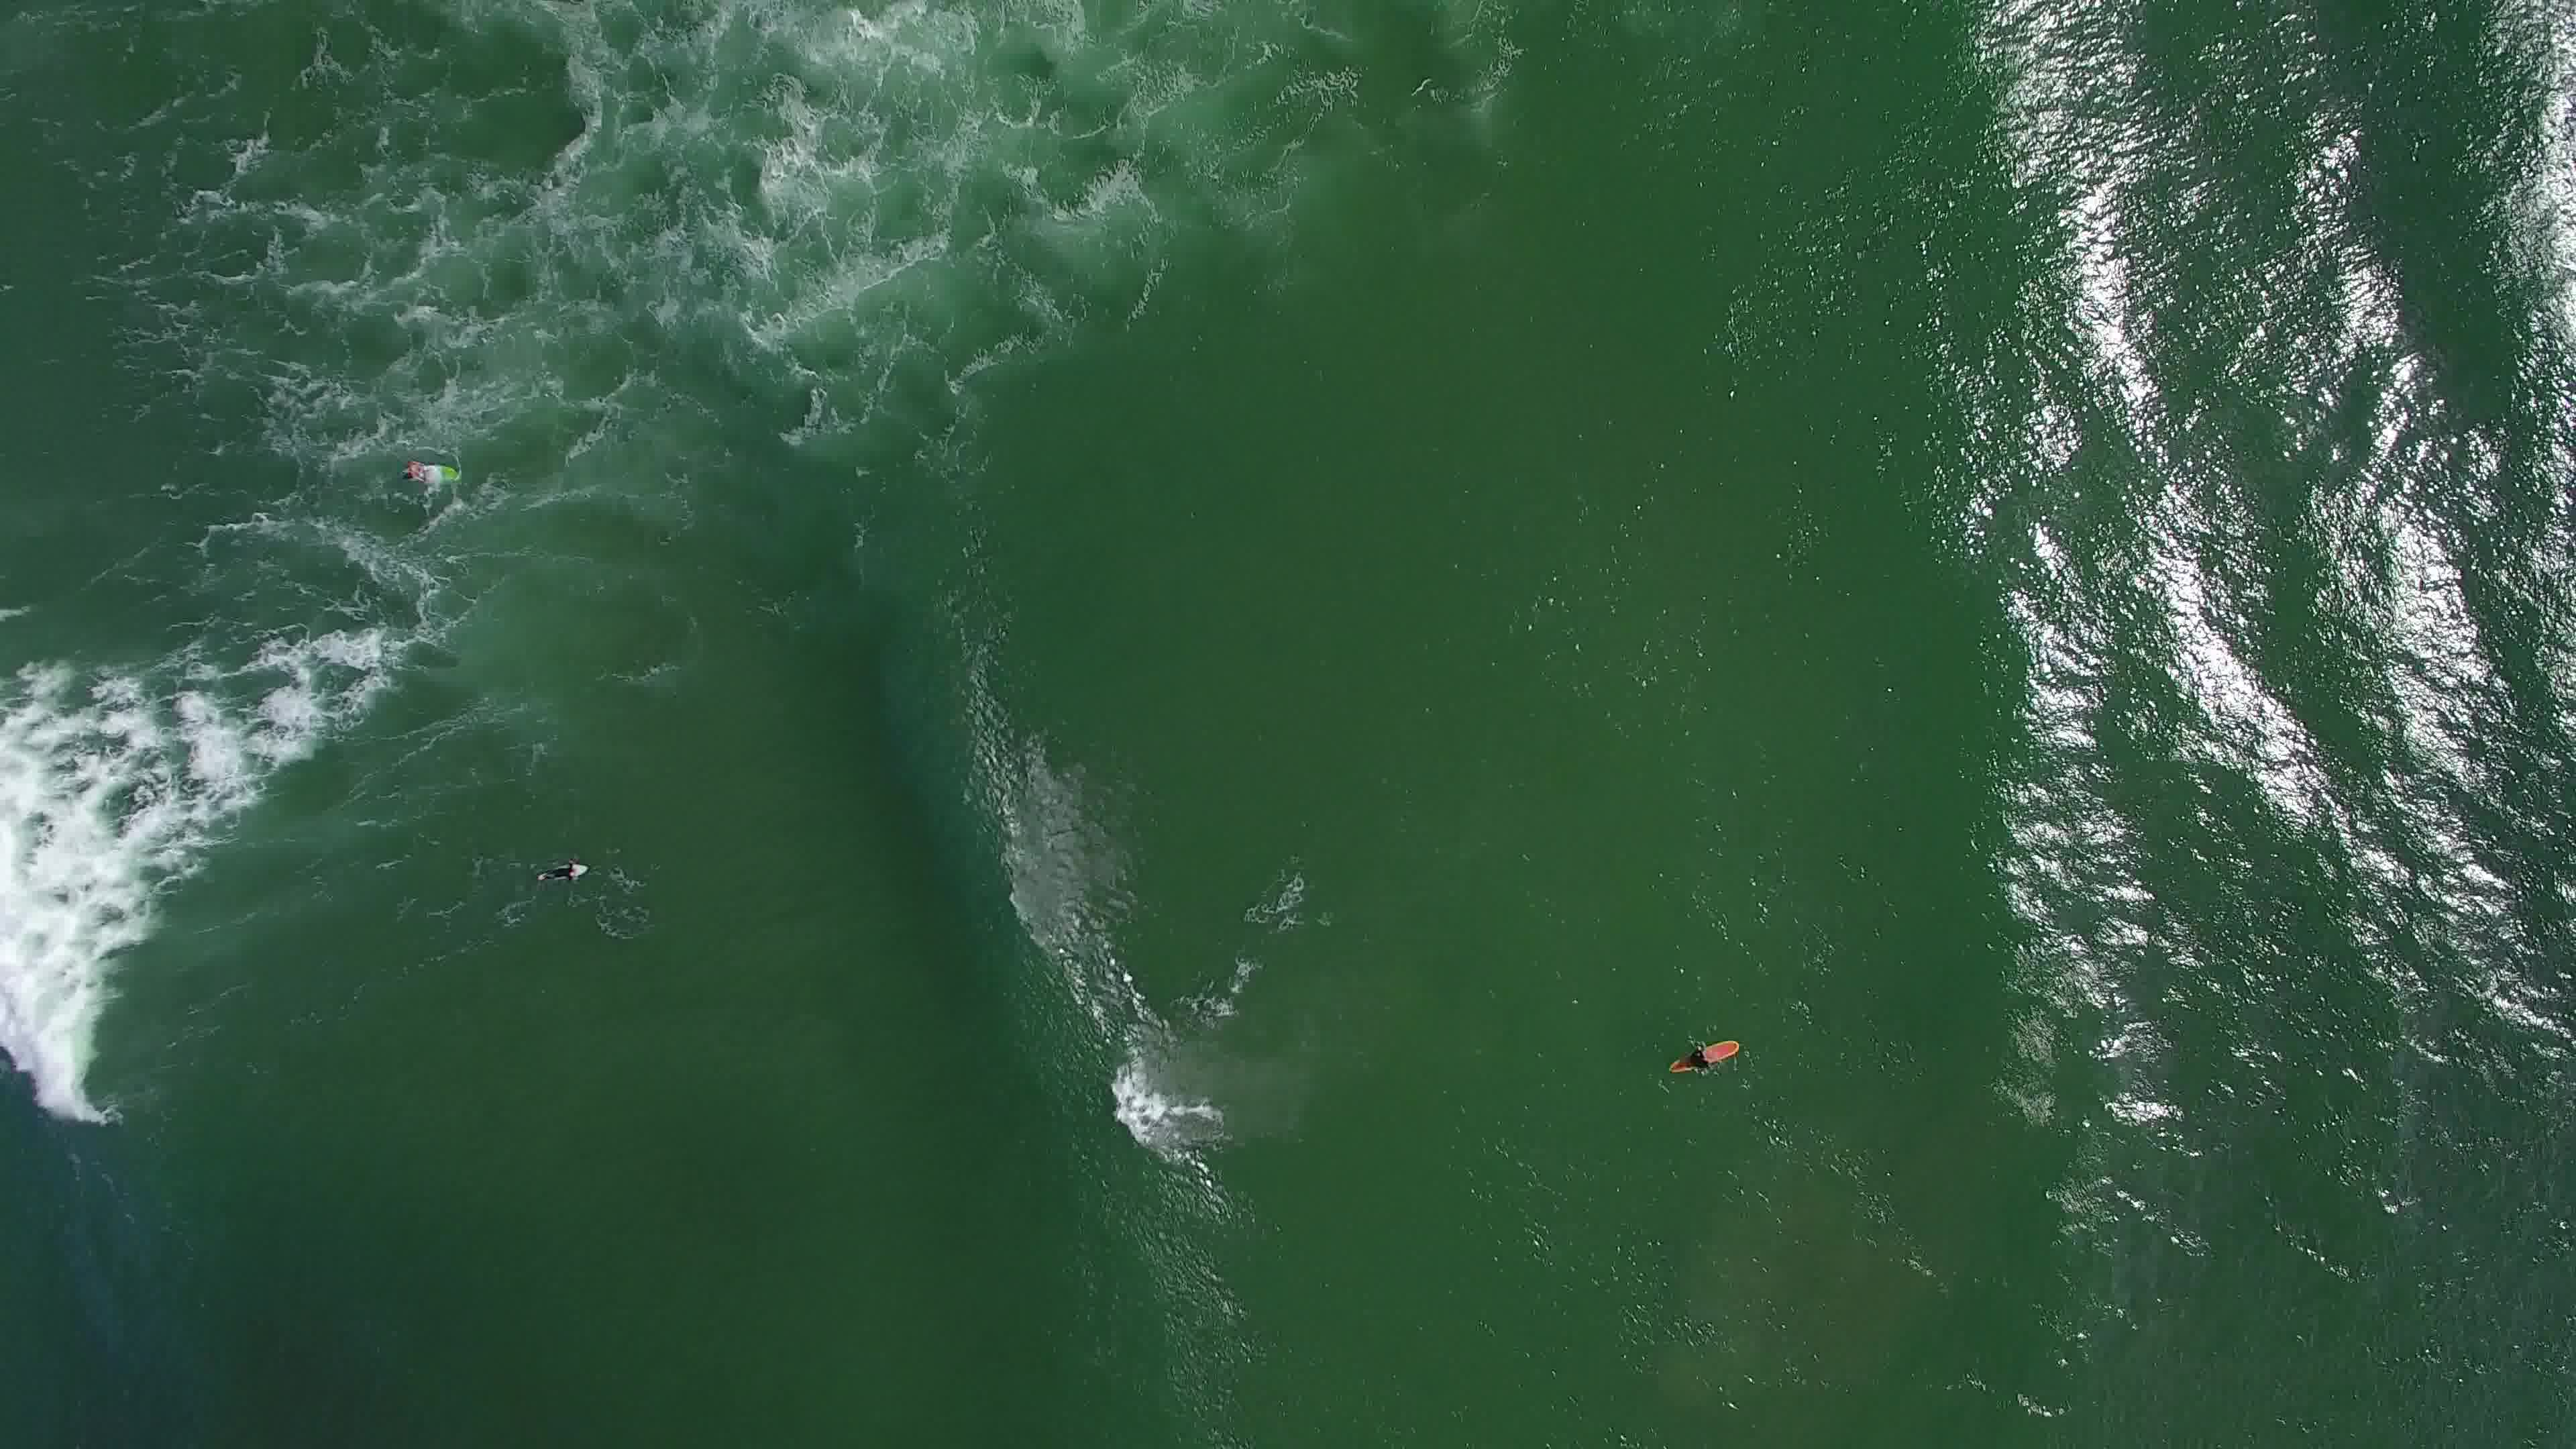surfer: (1661, 1035, 1748, 1088), (391, 455, 465, 495), (525, 853, 596, 893)
